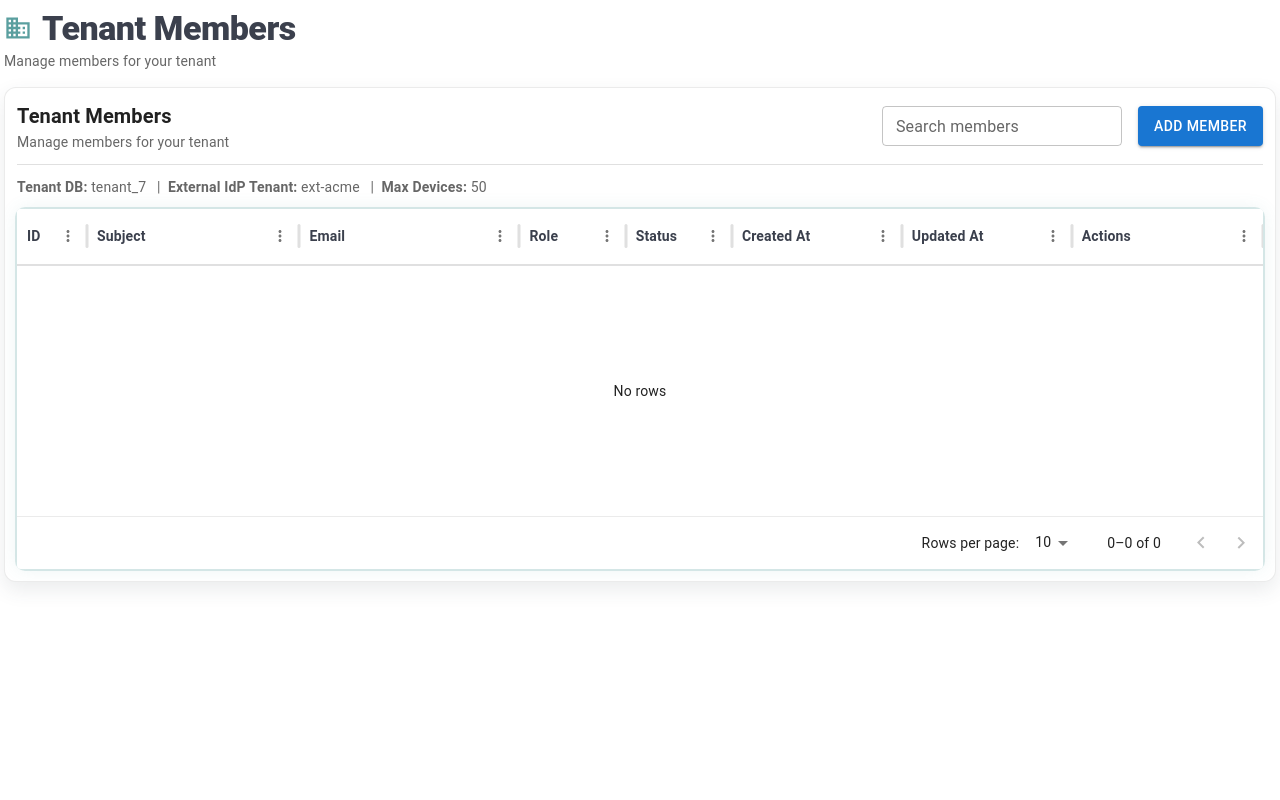
it: TenantsAdministrator — invite a new member › submits {email, role} only (no subject/isActive) and shows an invite-sent message
This screenshot has width=1280, height=800.
Click the button "Add Member": (1200, 126) 1138,106 -> 1263,146
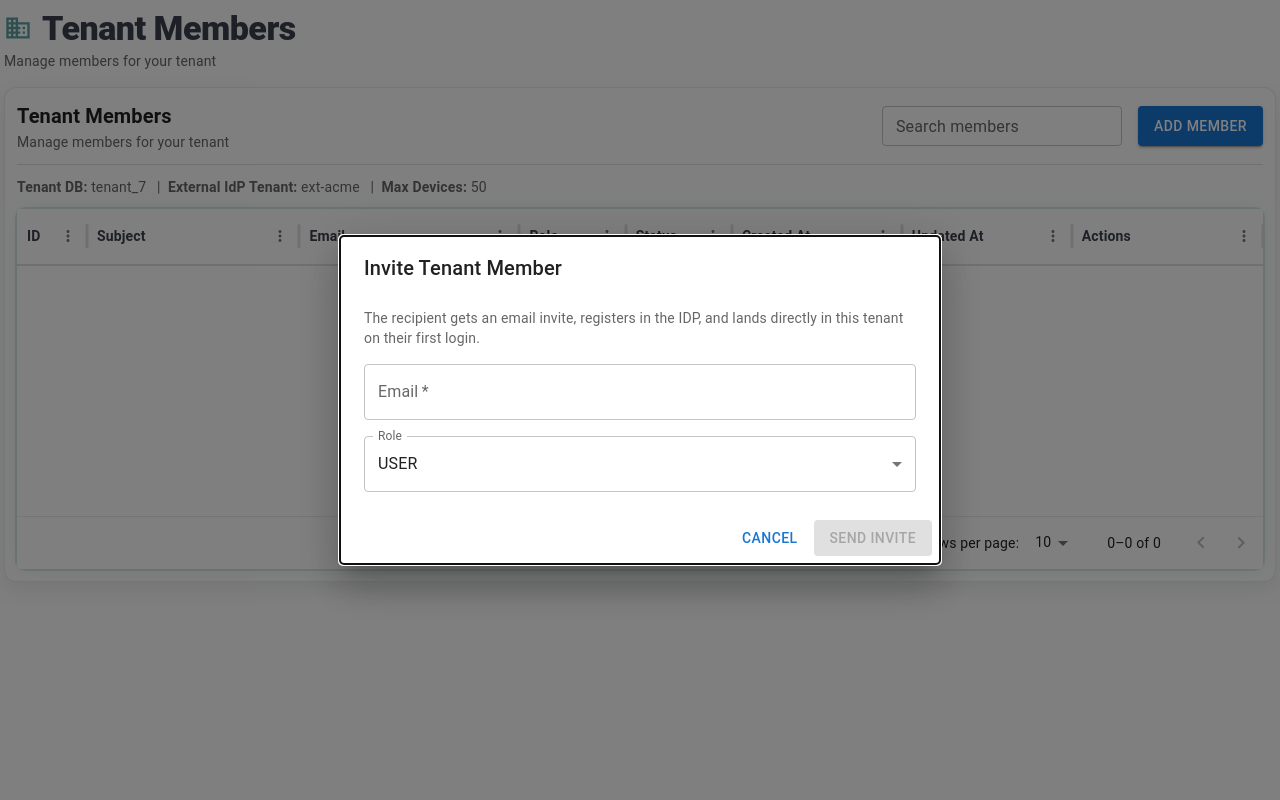
In the field labelled "Email *": (640, 392) 364,364 -> 916,420, type "new.person@acme.com"
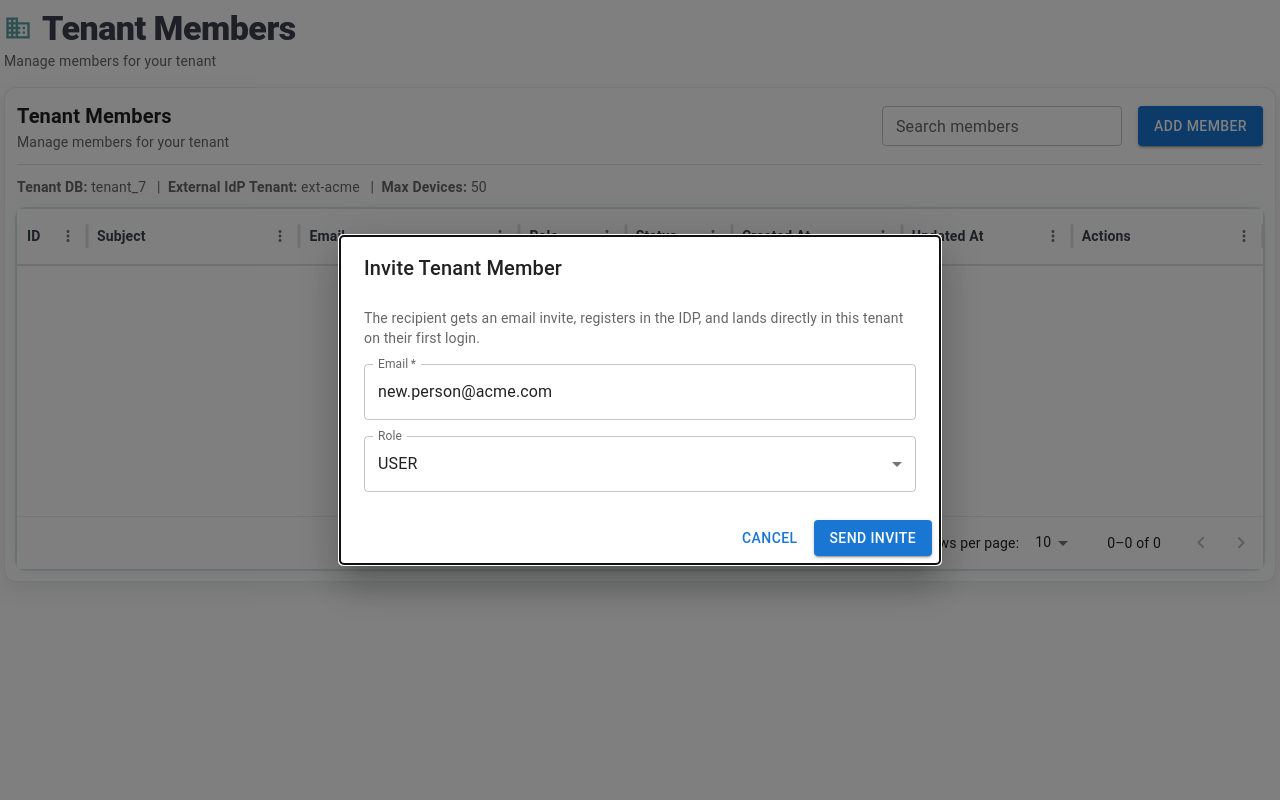
Click the button "Send Invite": (873, 538) 814,520 -> 932,556
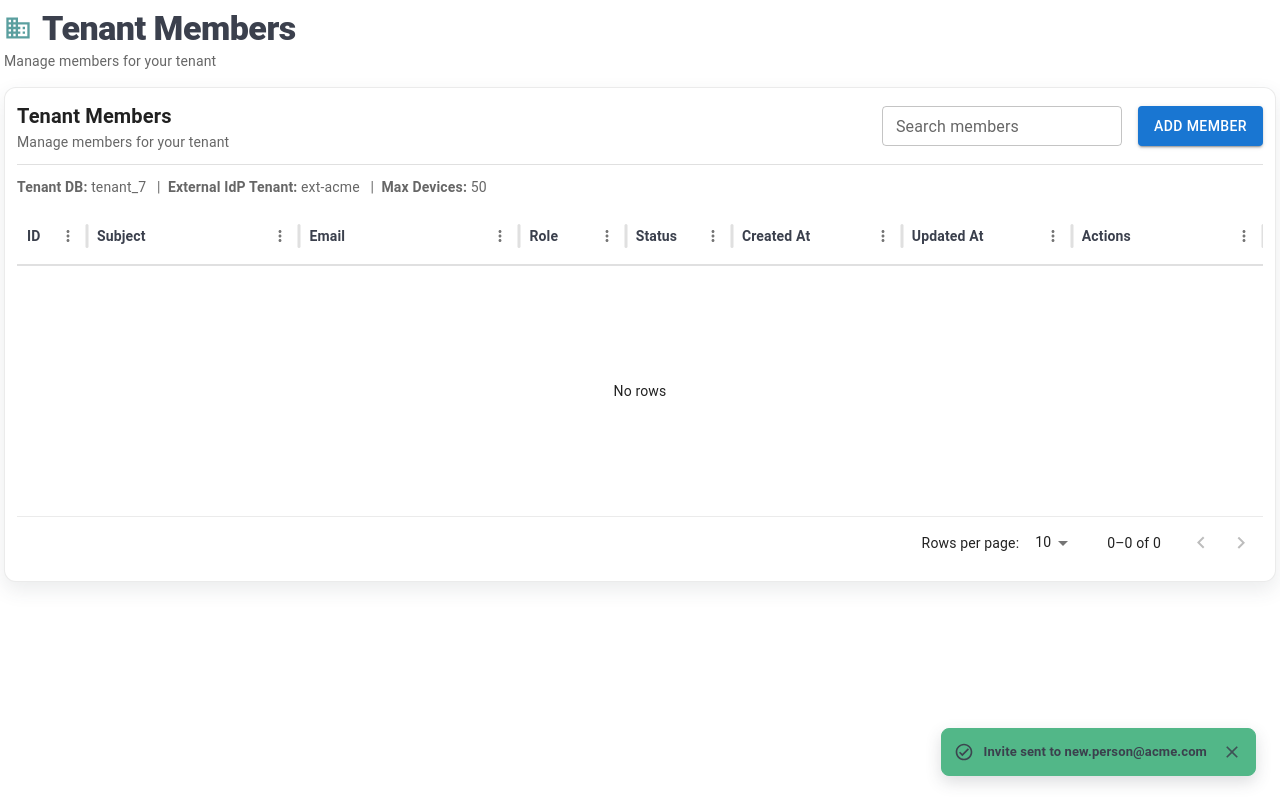
Check: the text "Invite sent to new.person@acme.com" is shown, box 984,743 -> 1207,761
